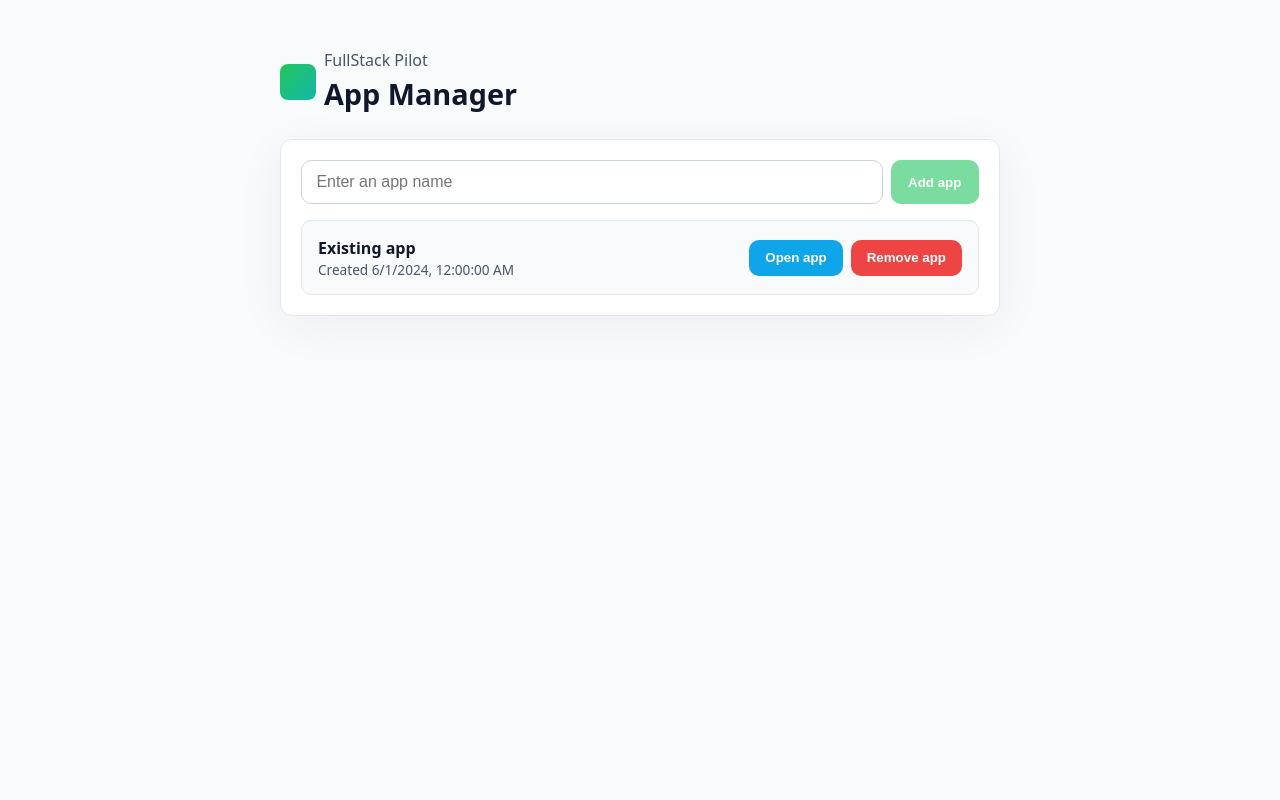
it: App › removes an app after confirmation
Expected: the text "Existing app" is shown, [318, 237, 416, 259]
Click the button "Remove app" at (906, 258), box [851, 240, 962, 276]
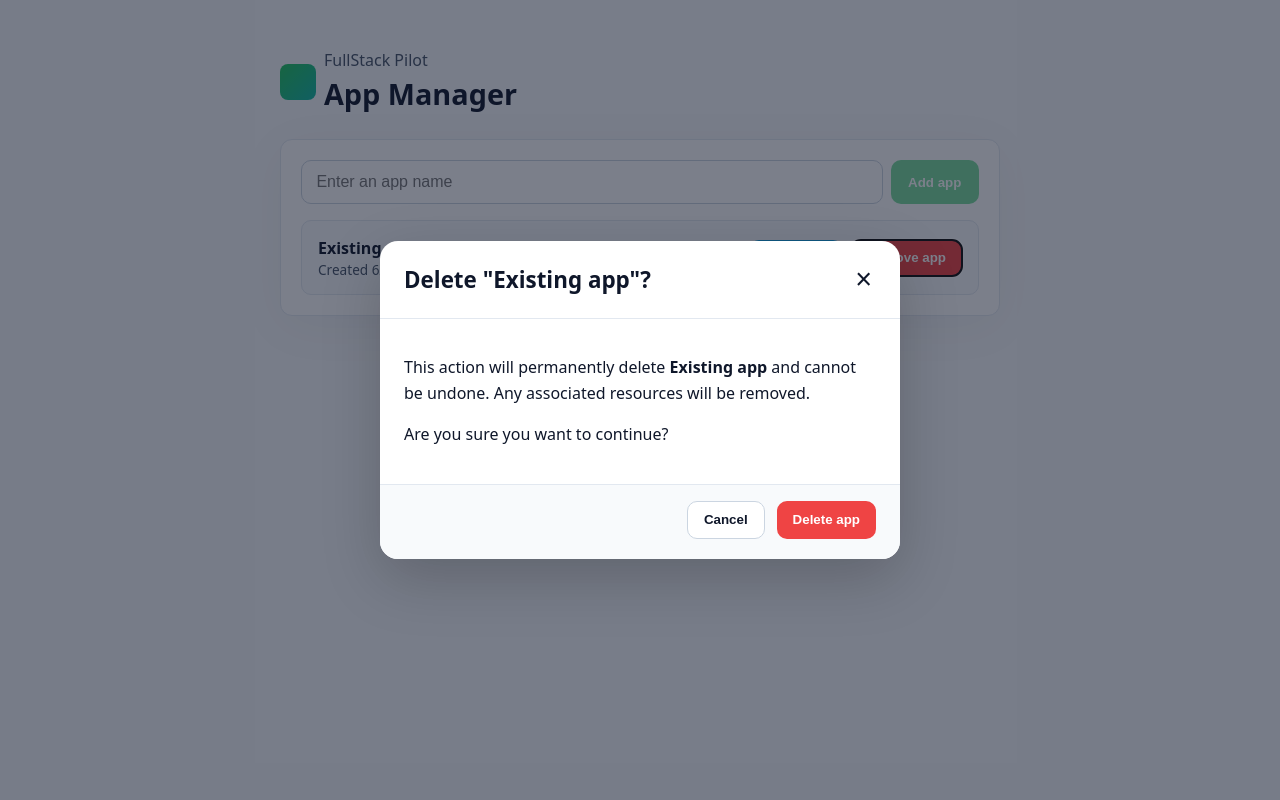
Expected: the dialog "Delete \"Existing app\"?" is shown, [380, 241, 900, 559]
Click the button "Delete app" at (826, 520), box [777, 501, 876, 539]
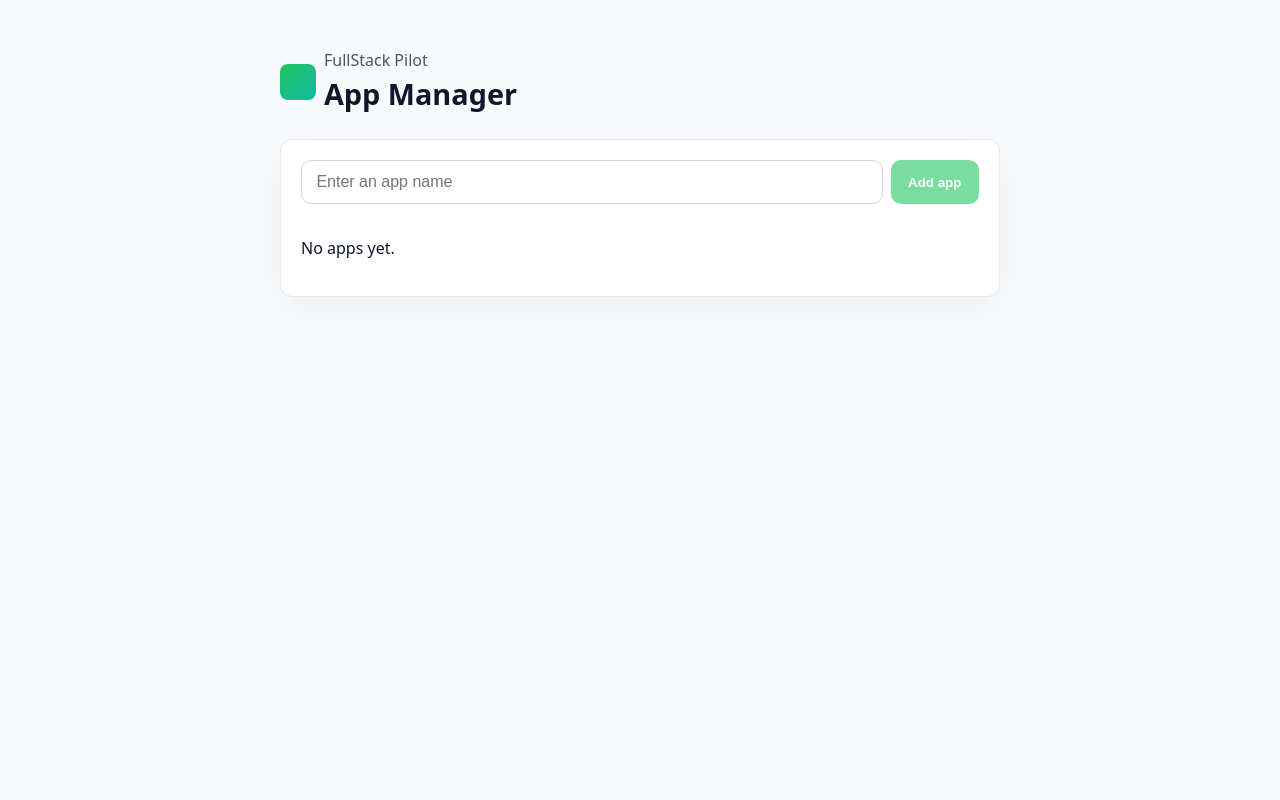
Expected: the text "Existing app" is gone
